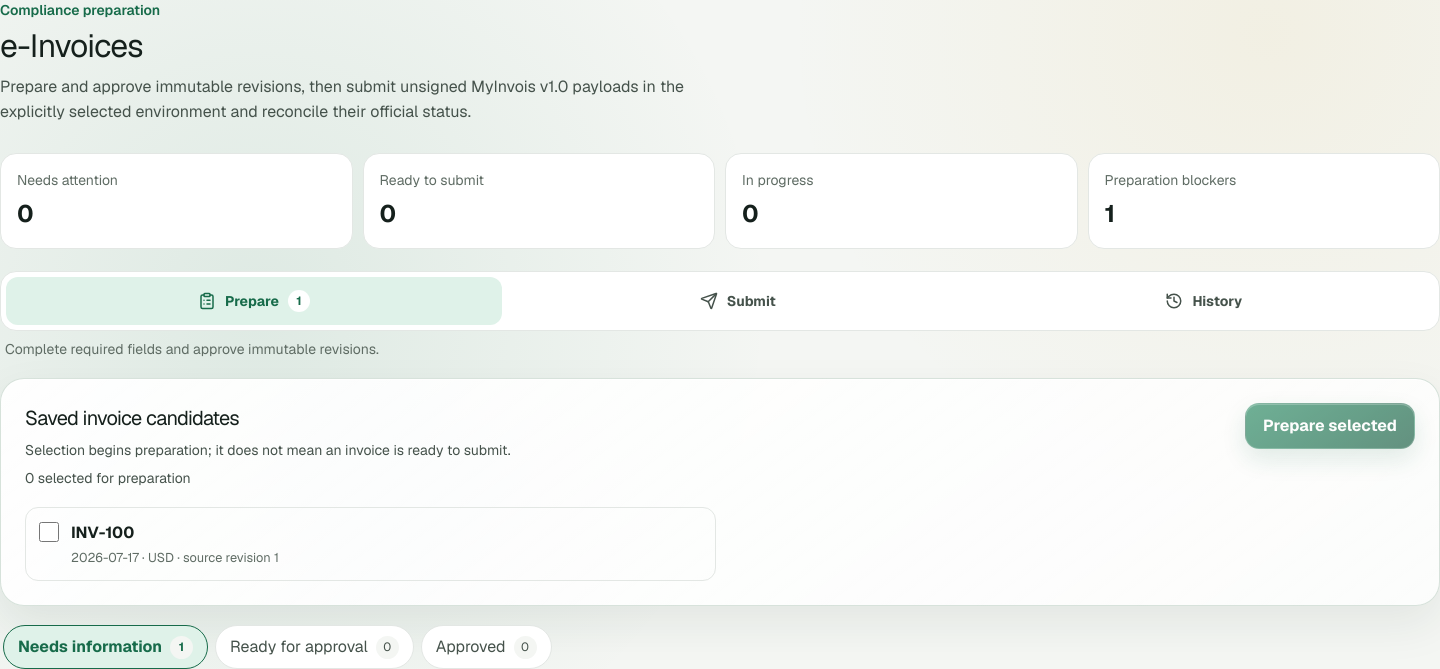
Test case: EInvoiceWorkspace › separates preparation, submission, and history into distinct stages
Expected: the heading "Saved invoice candidates" is shown, x1=25 y1=405 x2=239 y2=431
Expected: the heading "Submission history" is not shown
Click the tab "Submit" at (738, 301), box x1=508 y1=277 x2=968 y2=325
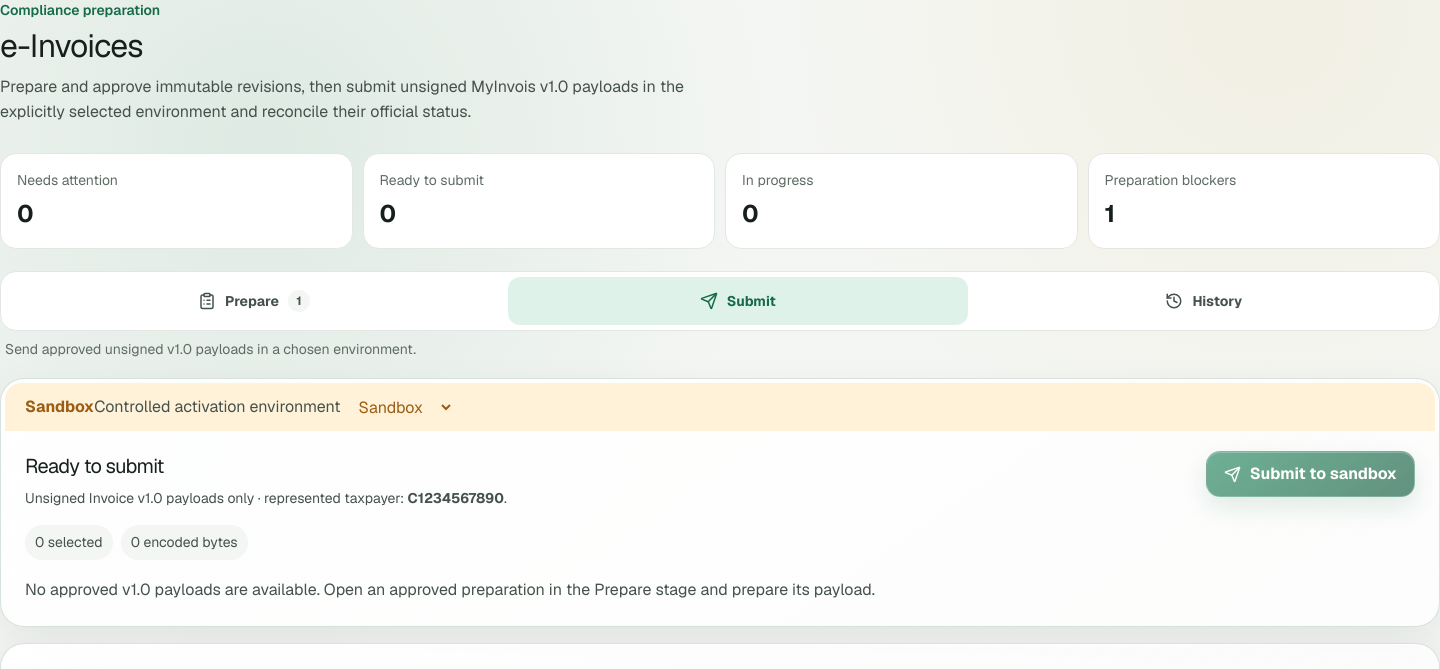
Expected: the heading "Ready to submit" is shown, x1=25 y1=453 x2=164 y2=479
Result: the heading "Saved invoice candidates" is gone
Click the tab "History" at (1204, 301), box x1=974 y1=277 x2=1434 y2=325
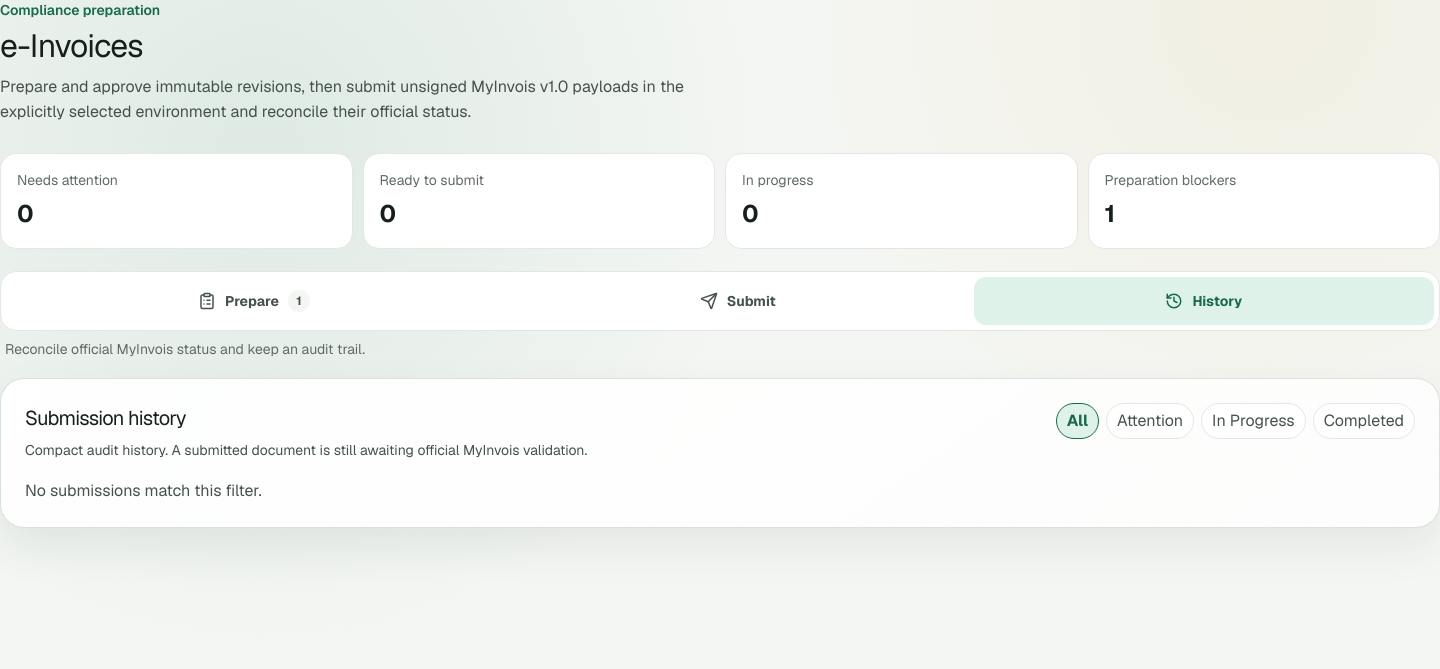
Result: the heading "Submission history" is shown at x1=25 y1=405 x2=186 y2=431
